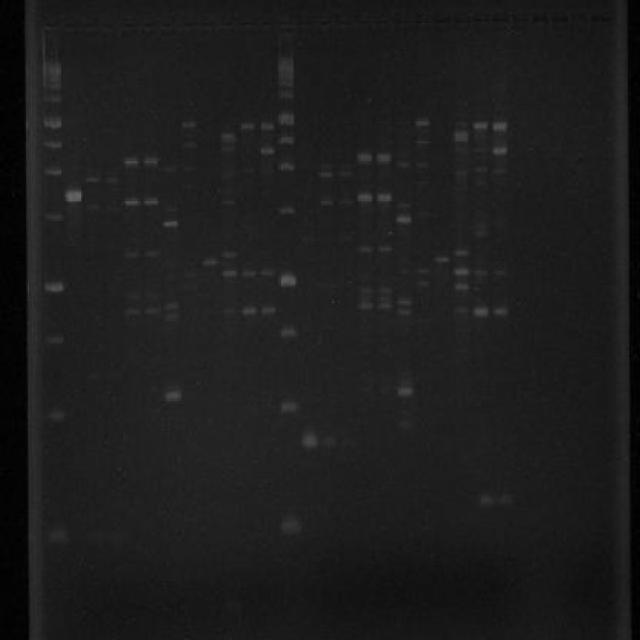B: (299, 432, 319, 450), (320, 432, 340, 450), (497, 490, 517, 508), (474, 494, 496, 508), (64, 188, 84, 203), (394, 384, 414, 399), (164, 388, 182, 403), (490, 119, 510, 132), (394, 157, 414, 170), (452, 128, 470, 142), (356, 152, 374, 166), (396, 306, 414, 320), (83, 200, 103, 212), (472, 118, 490, 131), (336, 195, 354, 208), (202, 255, 220, 268), (452, 265, 470, 278), (220, 305, 238, 318), (123, 248, 142, 260), (163, 300, 182, 312), (163, 310, 182, 322), (376, 152, 392, 166), (356, 192, 373, 205), (316, 196, 336, 207), (490, 307, 510, 318), (180, 118, 198, 130), (258, 120, 276, 132), (472, 144, 490, 156), (396, 200, 414, 212), (395, 214, 413, 226), (103, 173, 122, 184), (144, 304, 161, 316), (220, 268, 240, 278), (414, 117, 432, 128), (180, 139, 198, 150), (142, 156, 160, 167), (490, 166, 508, 177), (452, 247, 470, 258), (377, 191, 392, 204), (492, 144, 508, 156), (218, 132, 237, 142), (125, 306, 144, 316), (414, 159, 431, 170), (124, 196, 141, 207), (143, 249, 160, 260), (473, 267, 490, 278), (258, 146, 276, 156), (414, 266, 432, 276), (452, 282, 470, 292), (86, 173, 102, 184), (416, 279, 432, 290), (473, 307, 489, 318), (219, 197, 238, 206), (434, 254, 451, 264), (357, 286, 374, 296), (454, 306, 471, 316), (259, 306, 276, 316), (377, 243, 392, 254), (414, 138, 432, 147), (490, 268, 508, 277), (242, 306, 258, 316), (123, 157, 140, 166), (143, 197, 160, 206), (239, 270, 258, 278), (238, 122, 256, 130), (473, 164, 489, 173), (472, 230, 490, 238), (357, 246, 375, 254), (220, 250, 238, 258), (396, 297, 412, 306), (336, 170, 353, 178), (317, 172, 334, 180), (377, 294, 392, 303), (259, 270, 275, 278), (358, 302, 374, 310), (377, 286, 392, 294), (377, 303, 392, 311), (162, 165, 176, 173), (164, 220, 178, 228)
L: (34, 3, 616, 40)
M: (34, 40, 74, 552), (272, 43, 306, 542)
P: (276, 513, 302, 538), (46, 524, 68, 547), (276, 397, 299, 415), (278, 270, 298, 290), (44, 407, 66, 424), (42, 60, 64, 77), (44, 278, 64, 296), (42, 114, 62, 131), (44, 333, 64, 349), (42, 164, 62, 180), (278, 324, 298, 340), (42, 77, 64, 91), (42, 139, 64, 152), (43, 92, 62, 106), (43, 210, 63, 223), (278, 158, 294, 174), (278, 110, 294, 126), (276, 204, 296, 216), (276, 134, 296, 146), (278, 58, 294, 72), (278, 90, 294, 101), (278, 80, 294, 88), (278, 74, 296, 80)
Pc: (550, 9, 570, 29), (570, 8, 590, 27), (356, 12, 374, 31), (529, 10, 548, 28), (472, 12, 490, 30), (158, 16, 177, 33), (316, 13, 335, 30), (493, 10, 509, 30), (60, 15, 78, 32), (296, 13, 312, 32), (79, 17, 96, 34), (454, 14, 471, 31), (396, 12, 412, 30), (512, 10, 528, 28), (139, 16, 156, 32), (238, 14, 255, 30), (336, 13, 352, 30), (376, 13, 392, 30), (40, 15, 57, 30), (98, 17, 115, 32), (197, 15, 214, 30), (217, 15, 234, 30), (414, 13, 432, 27), (258, 15, 274, 30), (277, 16, 294, 30), (596, 10, 610, 27), (434, 14, 451, 28), (120, 17, 136, 31), (180, 16, 194, 30)
